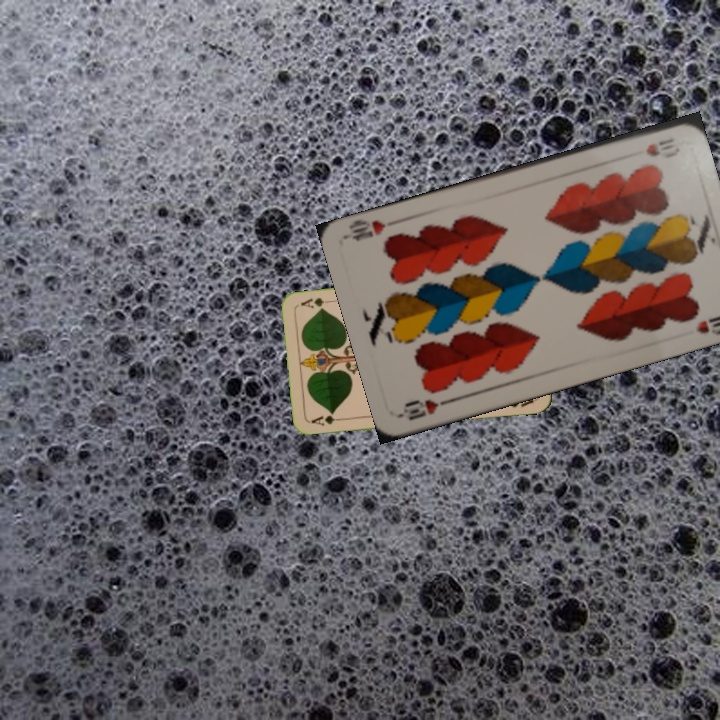GA: (307, 412, 348, 428)
H10: (397, 394, 455, 423), (641, 134, 677, 159)
